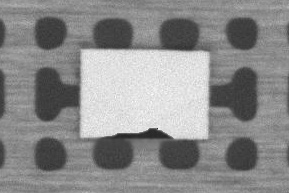DIE_BROKEN: (105, 126, 173, 139)
